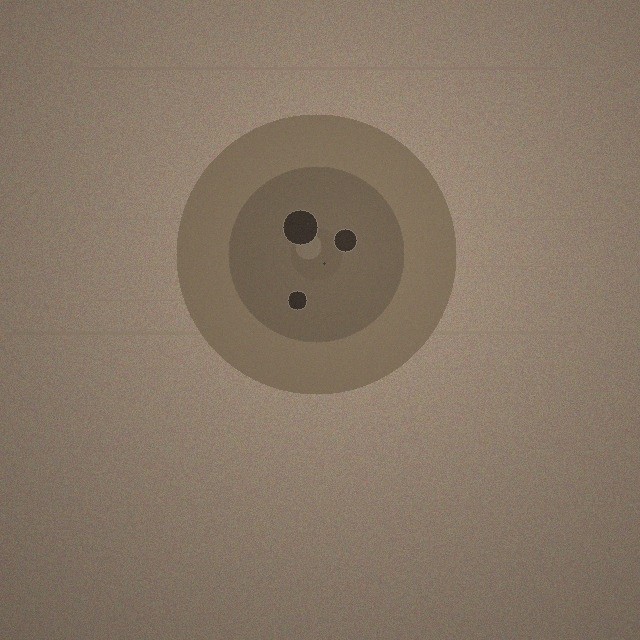shrinkage: (176, 114, 456, 394)
